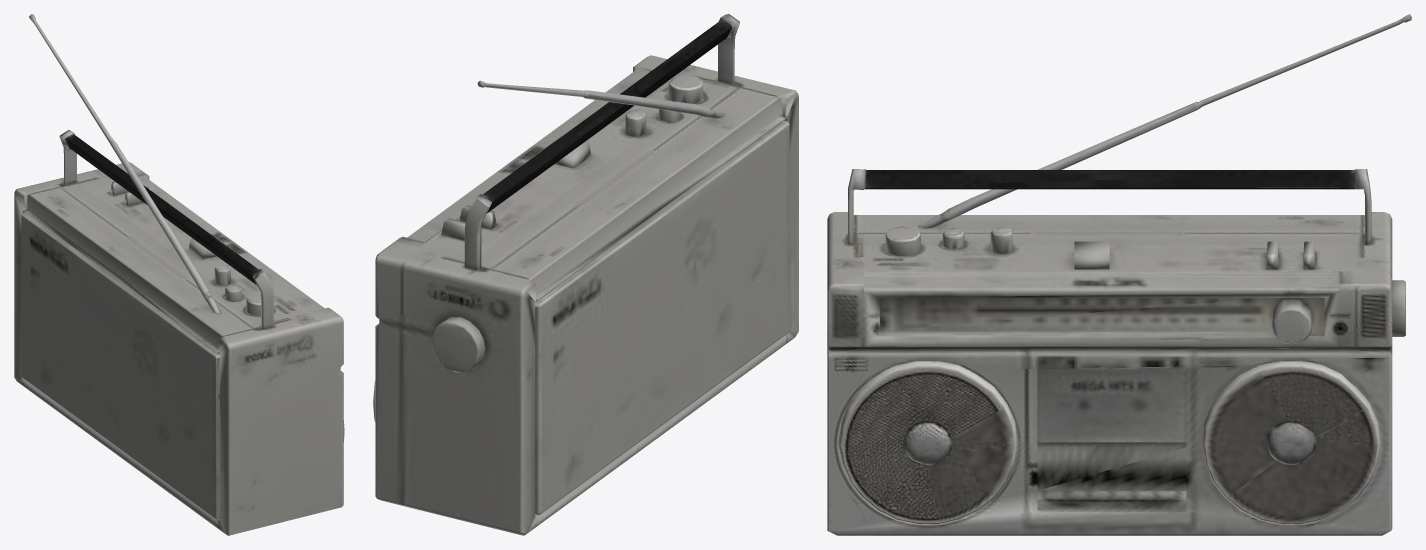
The model's file is radio.glb.
3 renders of one model, left to right at view 1: azimuth 30°, elevation 25°; view 2: azimuth 150°, elevation 25°; view 3: azimuth 270°, elevation 25°, orthographic. The views are drawn at different scales.
Parts seen in each view (by area): view 1: tripo_node_0307658d-6625-4d67-a2ec-bebcdd691d98; view 2: tripo_node_0307658d-6625-4d67-a2ec-bebcdd691d98; view 3: tripo_node_0307658d-6625-4d67-a2ec-bebcdd691d98.
Boxes of the visible parts, x1,y1,x2,y2 form: tripo_node_0307658d-6625-4d67-a2ec-bebcdd691d98: (14,14,344,535); tripo_node_0307658d-6625-4d67-a2ec-bebcdd691d98: (373,14,798,535); tripo_node_0307658d-6625-4d67-a2ec-bebcdd691d98: (827,14,1411,535).
Size of the model in its own units: 0.3301 by 0.877 by 0.998.
1 material, 1 textured.
